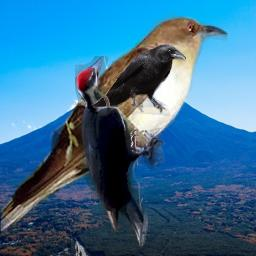Crow: (89, 43, 186, 116)
Cuckoo: (1, 14, 228, 233)
Woodpecker: (75, 56, 163, 246)
